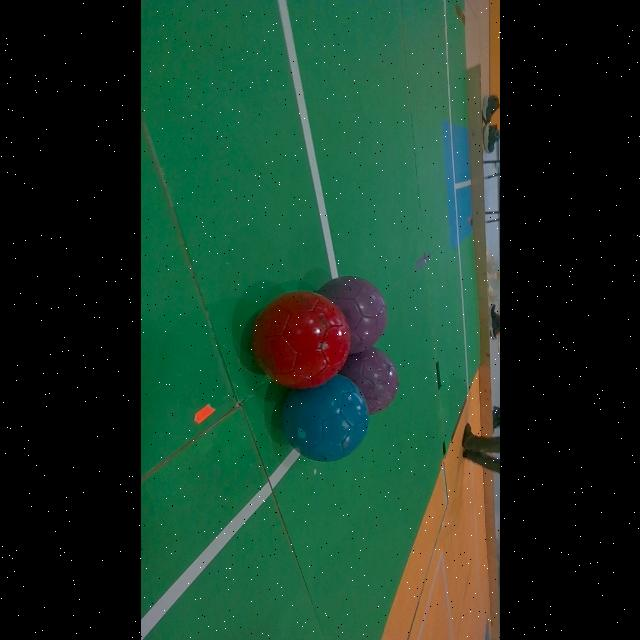B: (281, 375, 368, 461)
P: (317, 276, 387, 355), (340, 347, 399, 414)
R: (251, 291, 349, 388)
